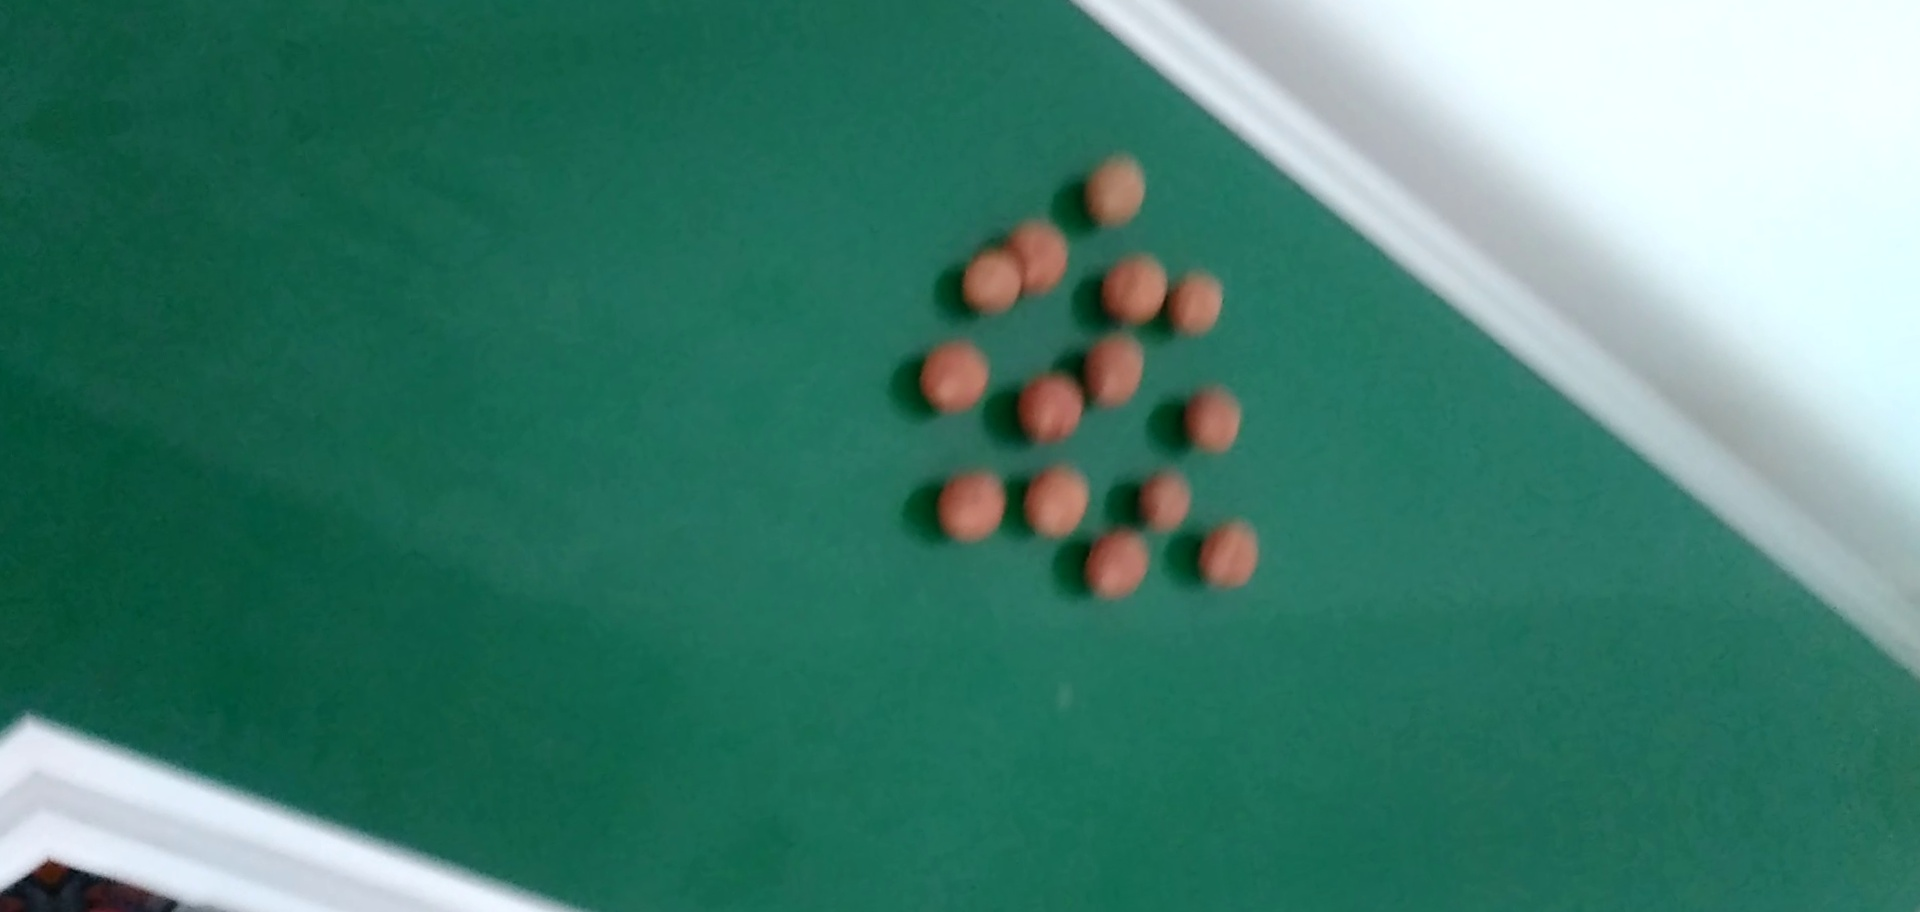mac: (913, 335, 1000, 417), (1018, 463, 1097, 542), (932, 468, 1011, 544), (1098, 251, 1173, 329), (1079, 334, 1153, 413), (1003, 218, 1074, 300), (1011, 370, 1089, 443), (1080, 158, 1153, 231), (1194, 519, 1265, 591), (1082, 526, 1152, 600), (958, 245, 1026, 318), (1182, 386, 1249, 455), (1167, 271, 1229, 337), (1136, 470, 1196, 531)
